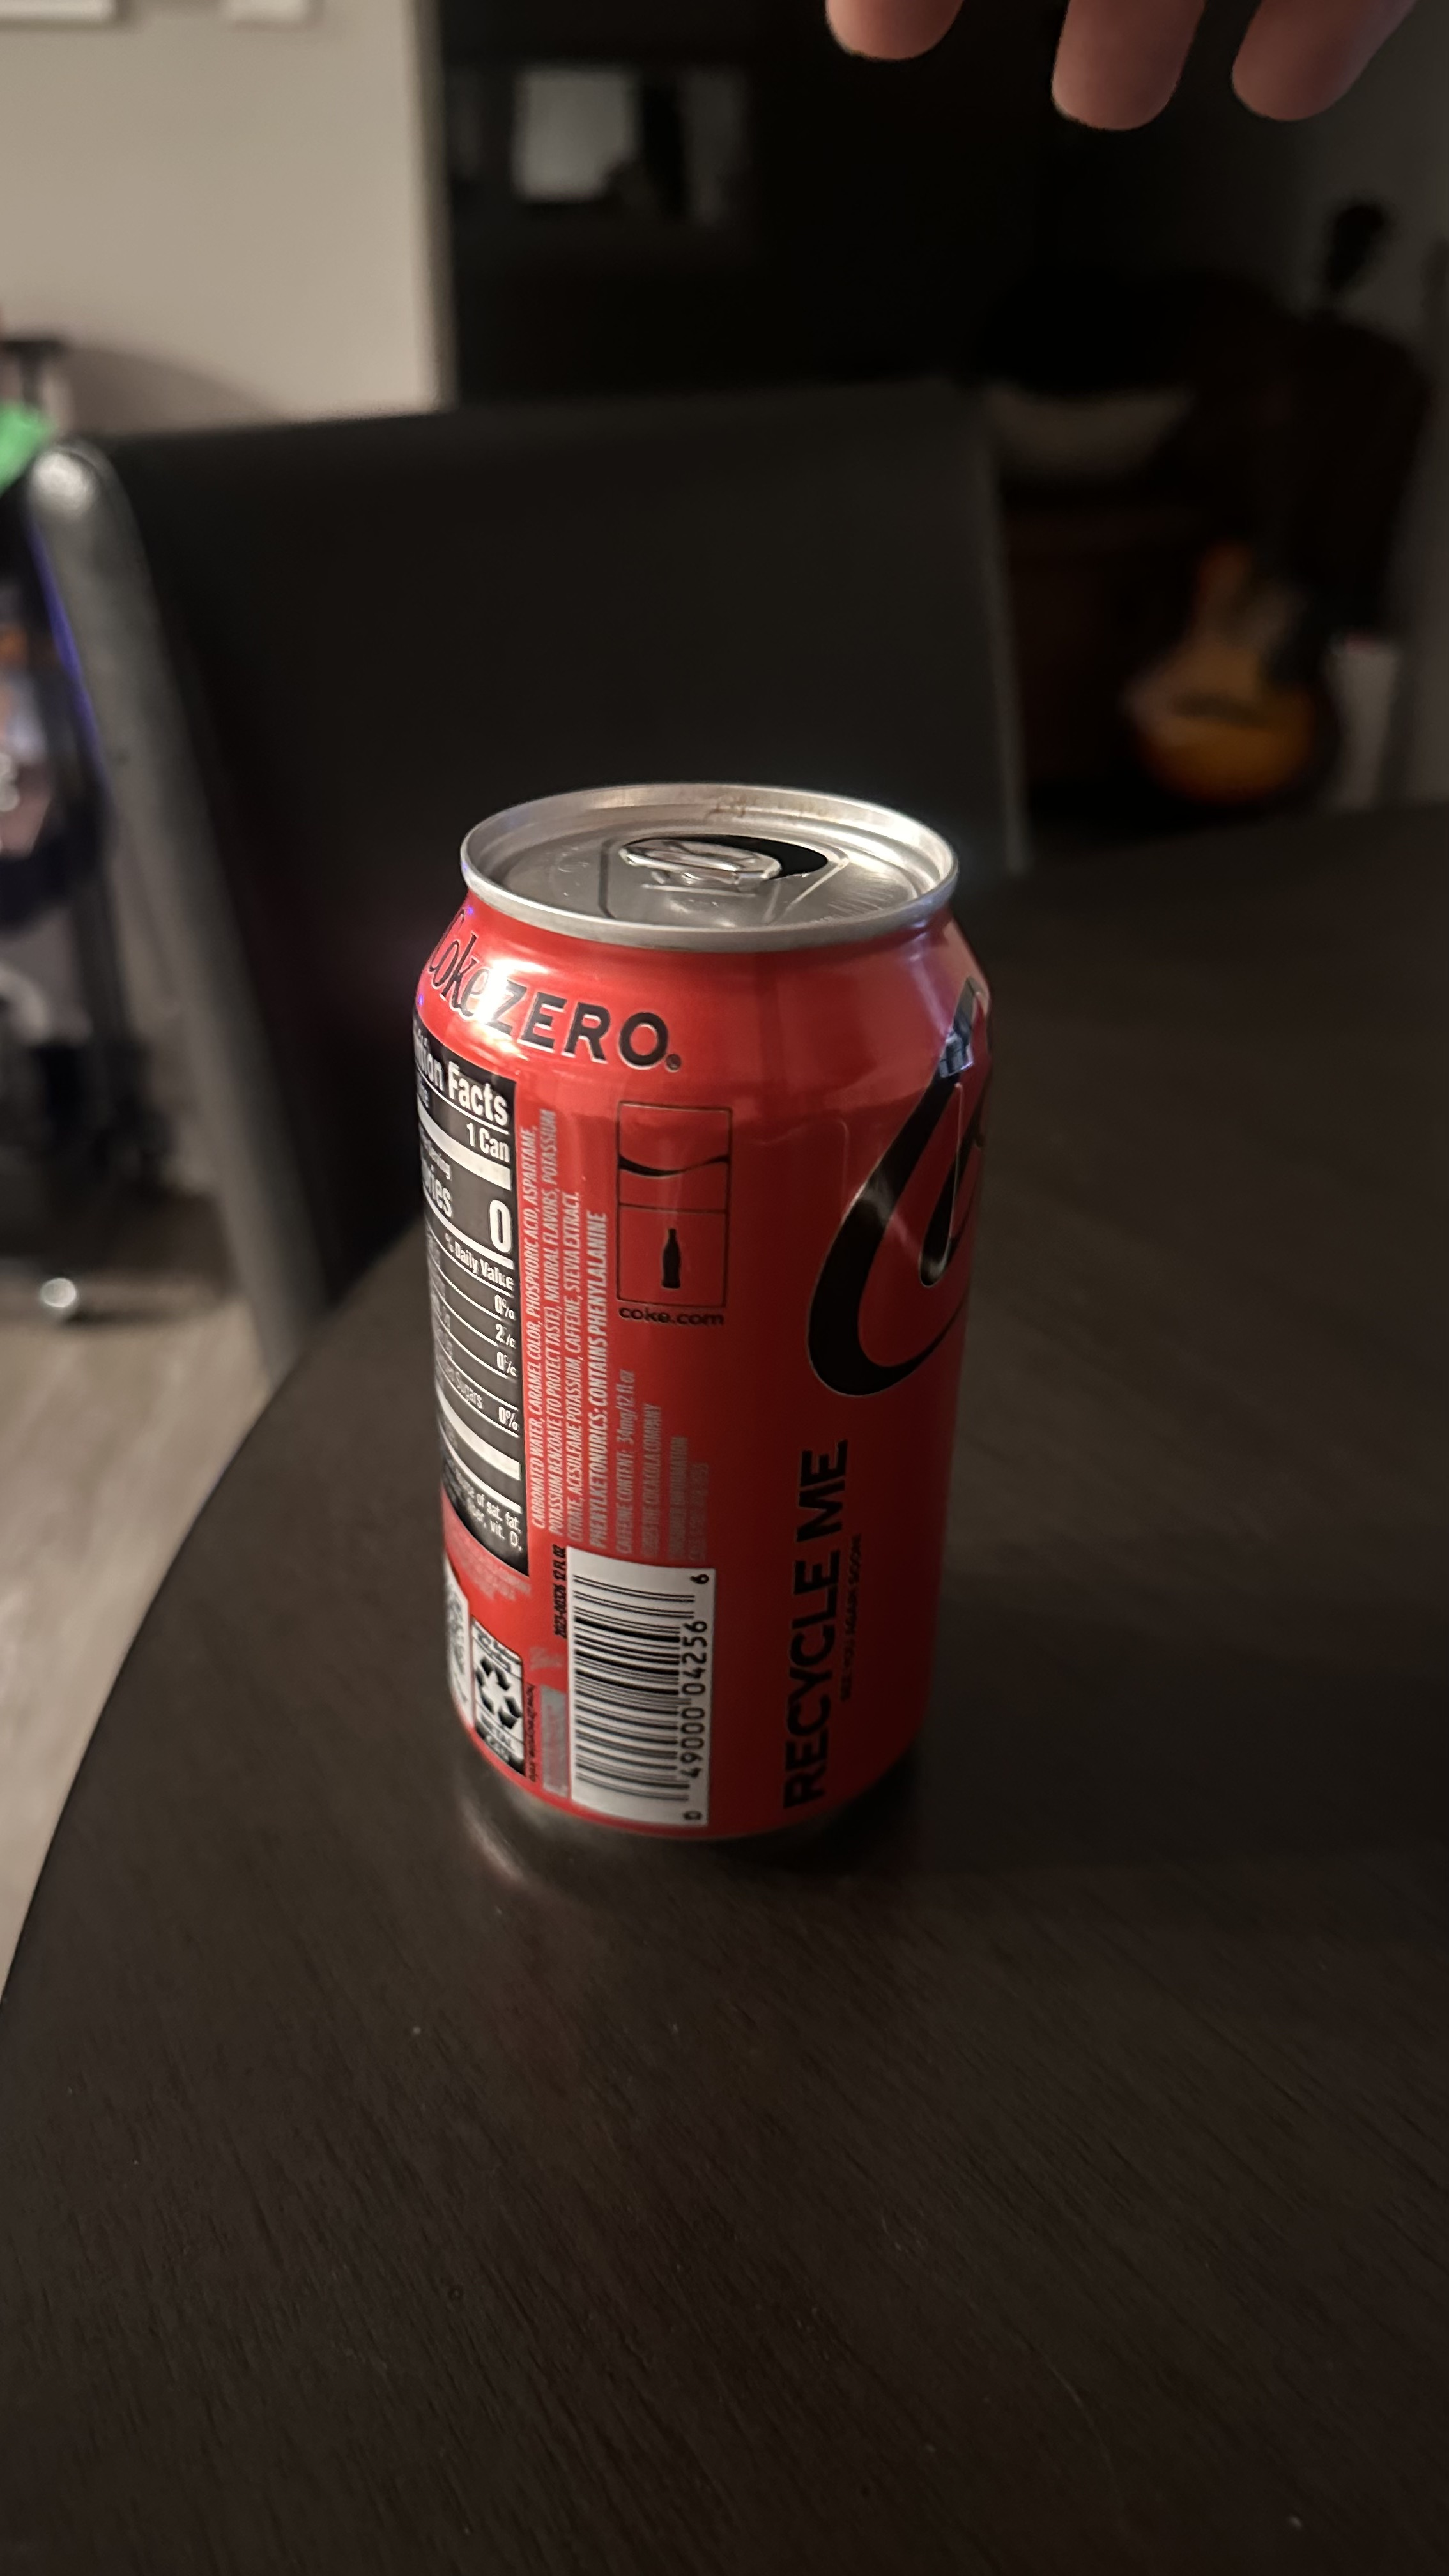Coke Zero: (391, 780, 1005, 1884)
